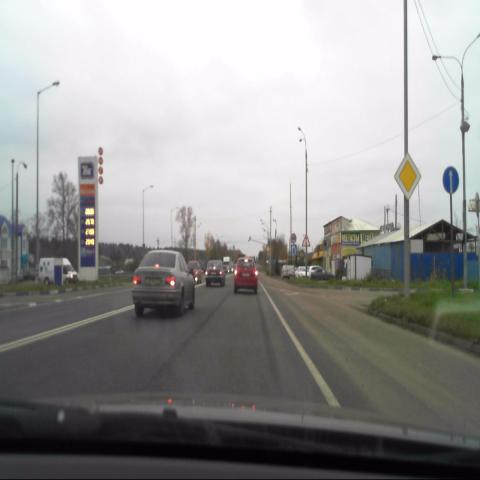4_1_1: (442, 165, 459, 195)
